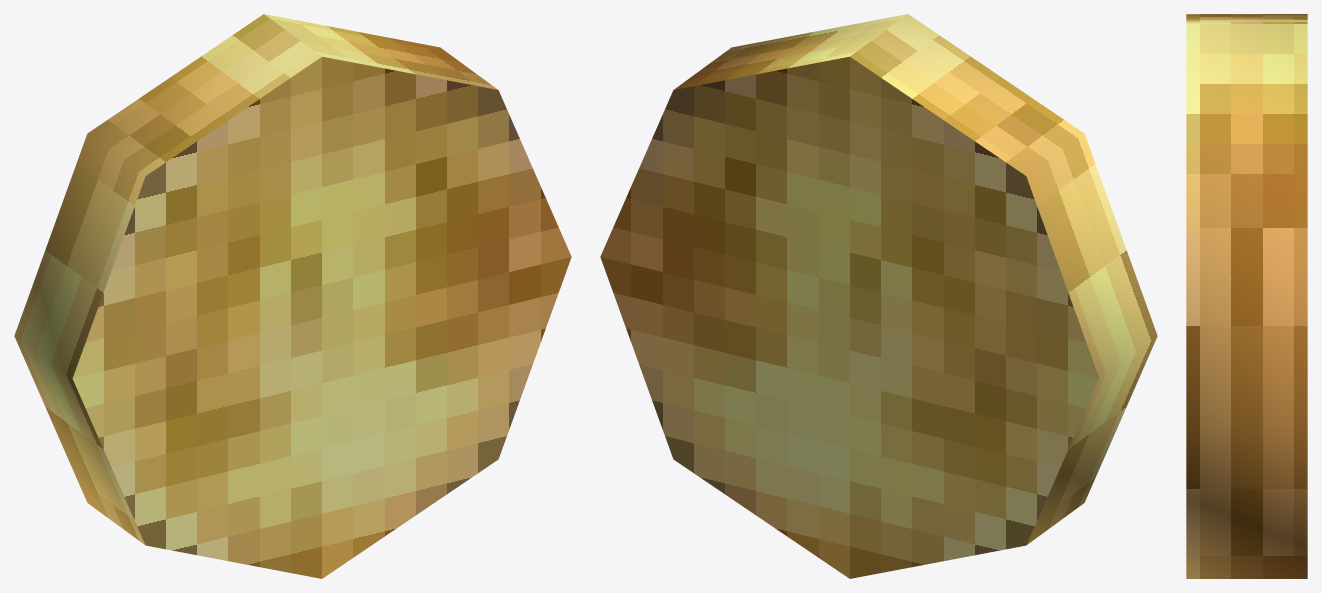
Rendered from Gold01.glb.
3 renders of one model, left to right at view 1: azimuth 30°, elevation 25°; view 2: azimuth 150°, elevation 25°; view 3: azimuth 270°, elevation 25°, orthographic. The views are drawn at different scales.
Parts seen in each view (by area): view 1: model_Gold01; view 2: model_Gold01; view 3: model_Gold01.
Boxes of the visible parts, bbox=[...] form: model_Gold01: bbox=[14, 14, 571, 578]; model_Gold01: bbox=[600, 14, 1157, 578]; model_Gold01: bbox=[1186, 14, 1307, 578].
Bounding box in the file's own units: 0.1476 × 0.1476 × 0.0298.
1 material, 1 textured.
